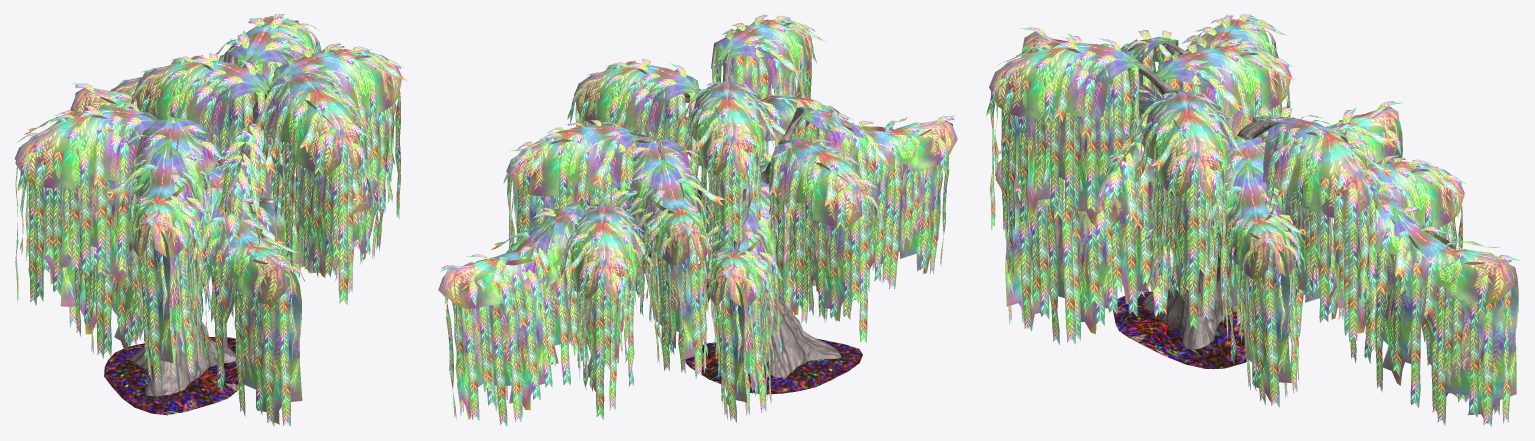
The model's file is willow_02_SM.fbx.
3 renders of one model, left to right at view 1: azimuth 30°, elevation 25°; view 2: azimuth 150°, elevation 25°; view 3: azimuth 270°, elevation 25°, orthographic. The views are drawn at different scales.
Visible parts, largest first — view 1: willow_02_SM_LOD0; view 2: willow_02_SM_LOD0; view 3: willow_02_SM_LOD0.
Boxes of the visible parts, bbox=[...] form: willow_02_SM_LOD0: bbox=[14, 14, 407, 426]; willow_02_SM_LOD0: bbox=[438, 14, 957, 426]; willow_02_SM_LOD0: bbox=[986, 14, 1519, 426].
Size of the model in its own units: 1486 by 1720 by 1181.
3 materials, 3 textured.
